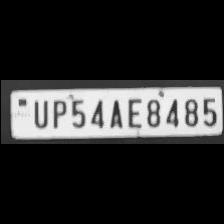4: (86, 96, 106, 128), (162, 96, 180, 128)
5: (66, 96, 86, 128), (199, 95, 219, 127)
8: (142, 96, 162, 128), (181, 95, 199, 127)
A: (104, 96, 124, 128)
E: (122, 96, 142, 128)
P: (47, 97, 66, 128)
U: (28, 97, 48, 128)
